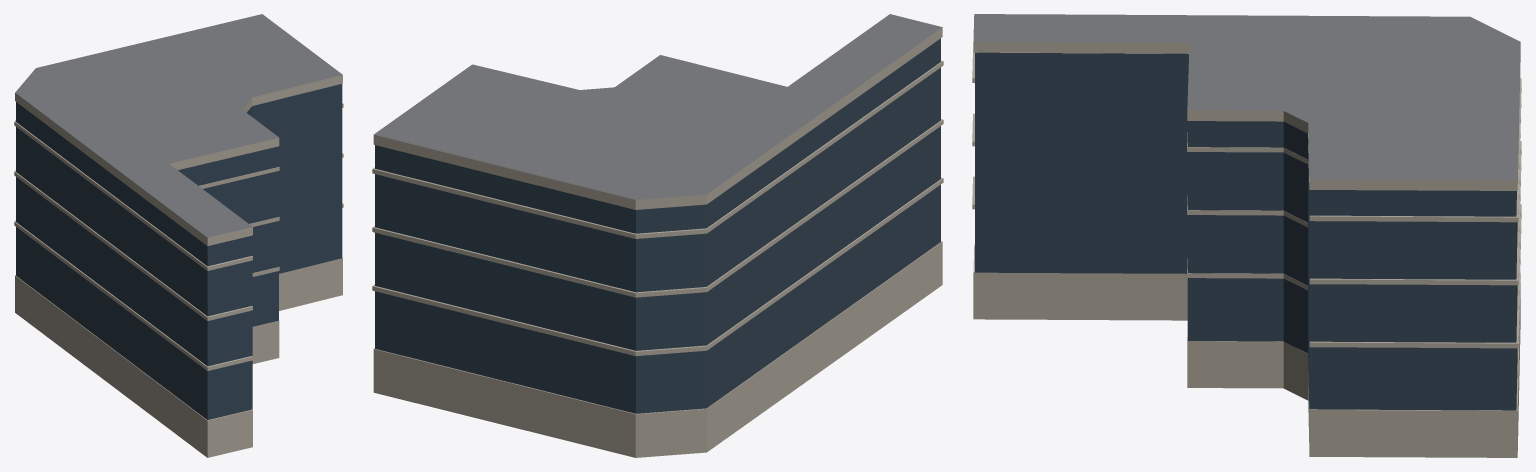
Rendered from boyer_101.glb.
The picture shows the model from 3 angles, left to right: view 1: azimuth 30°, elevation 25°; view 2: azimuth 150°, elevation 25°; view 3: azimuth 270°, elevation 25°; orthographic projection. The views are drawn at different scales.
Parts seen in each view (by area): view 1: Boyer_101; view 2: Boyer_101; view 3: Boyer_101.
Boxes of the visible parts, <box> form: Boyer_101: <box>14,14,343,457</box>; Boyer_101: <box>372,14,943,457</box>; Boyer_101: <box>972,14,1521,457</box>.
Size of the model in its own units: 53.38 by 41.4 by 74.24.
